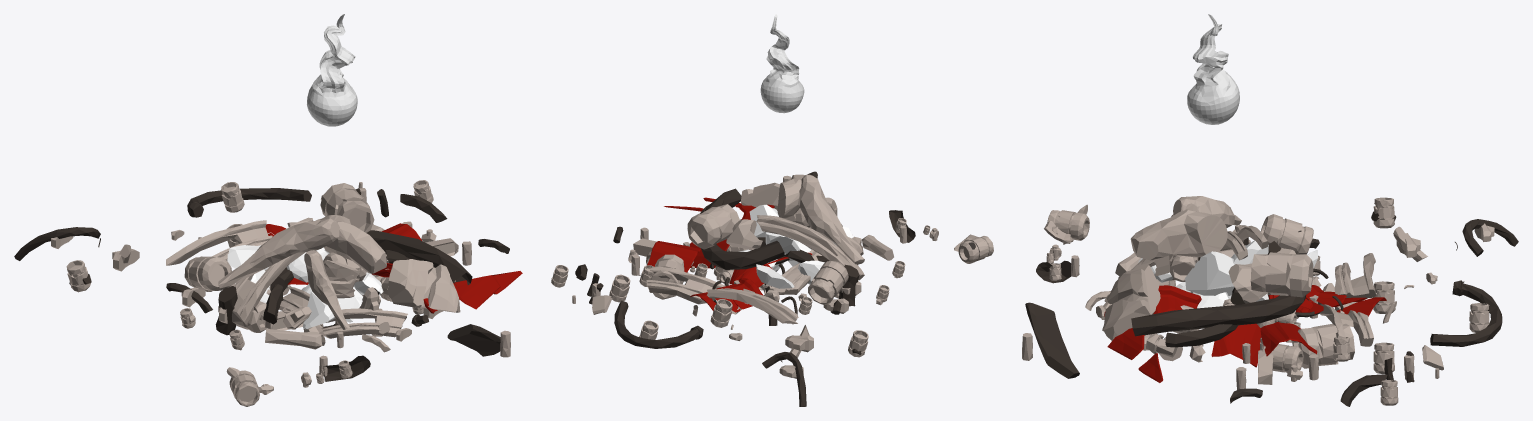
The model's file is Soul.fbx.
The picture shows the model from 3 angles, left to right: view 1: azimuth 30°, elevation 25°; view 2: azimuth 150°, elevation 25°; view 3: azimuth 270°, elevation 25°; orthographic projection. The views are drawn at different scales.
Parts seen in each view (by area): view 1: Soul; view 2: Soul; view 3: Soul.
Part boxes in pixels (x1=…): Soul: x1=14, y1=14, x2=522, y2=406; Soul: x1=551, y1=14, x2=993, y2=406; Soul: x1=1022, y1=14, x2=1518, y2=406.
Bounding box in the file's own units: 1304 × 1064 × 1469.
